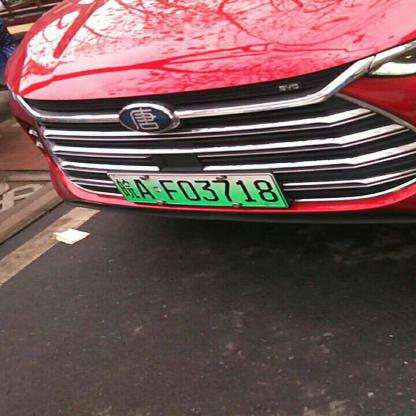lp: (109, 174, 287, 206)
